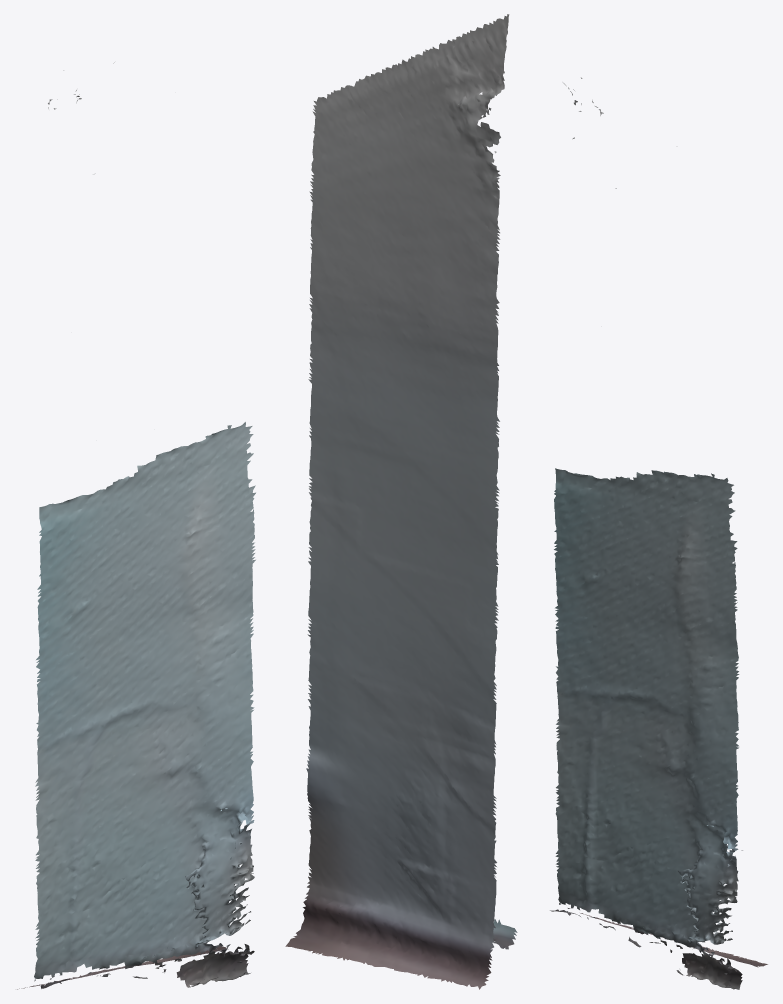
The model's file is apartment-full-23-560f30837c1f.glb.
3 views of the same model, side by side, from view 1: azimuth 30°, elevation 25°; view 2: azimuth 150°, elevation 25°; view 3: azimuth 330°, elevation 25° (orthographic). The views are drawn at different scales.
Bounding box in the file's own units: 0.491 × 2.25 × 0.154.
